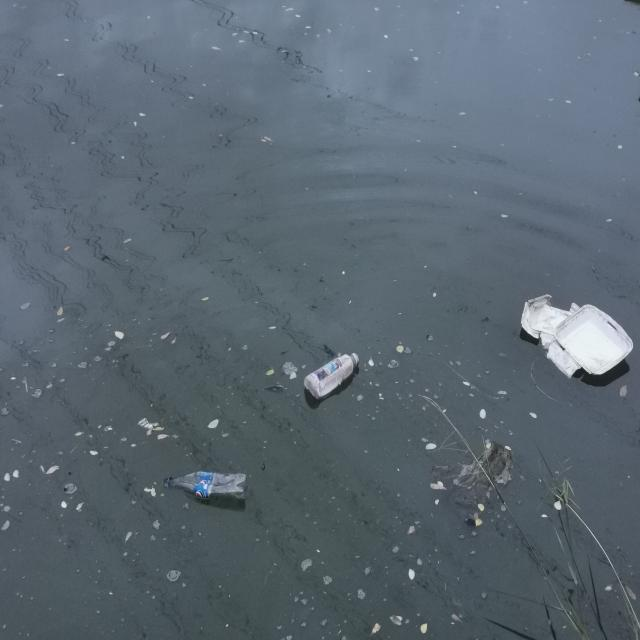foam: (514, 275, 637, 389)
plastic: (302, 342, 363, 410), (158, 469, 254, 501)
